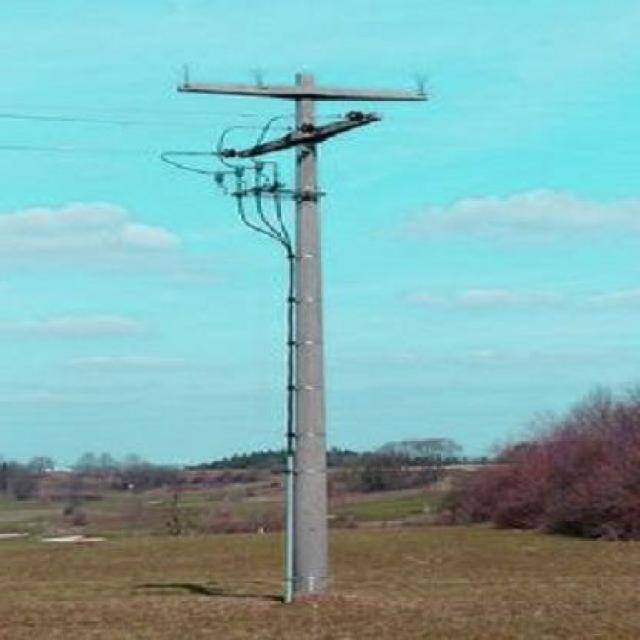pole: (164, 63, 433, 588)
